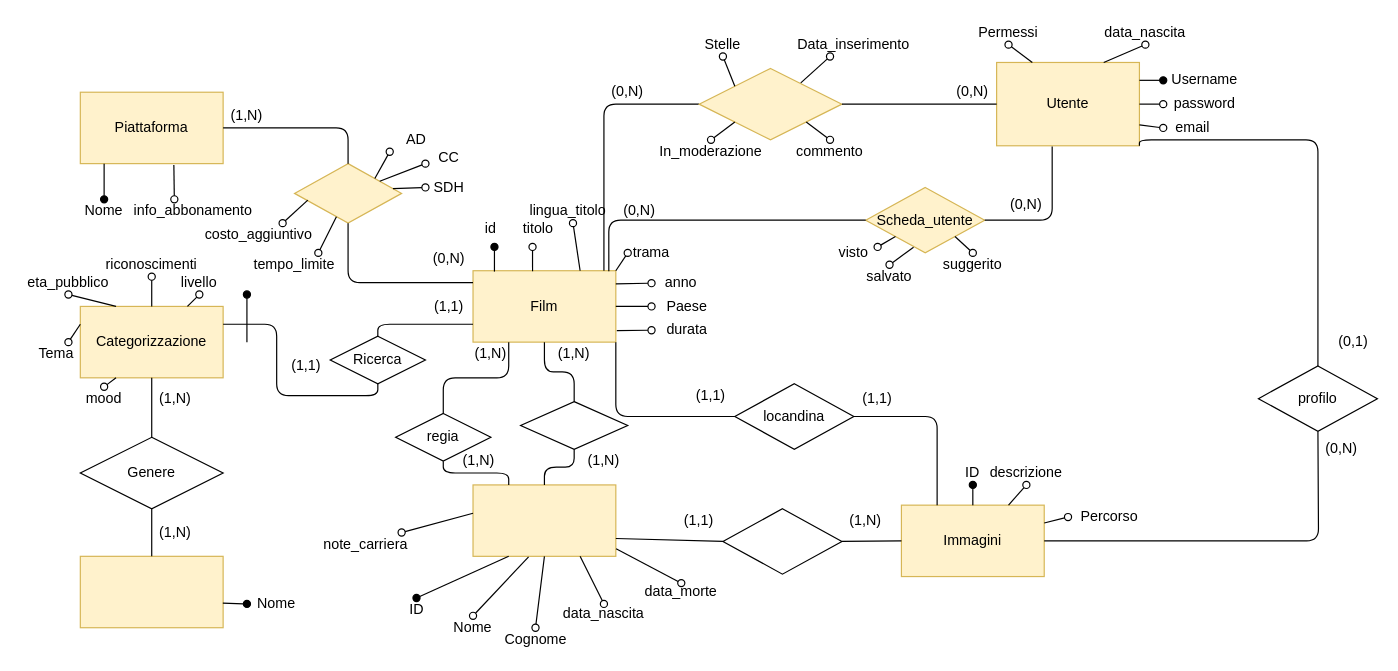
Image size: 1398x671. Some labels were removed from this diagram. The centre of each missing label's shape, as x and y in pixels:
Attore: (544,520)
cast_film: (573,424)
Disponibilità: (347,192)
foto: (782,541)
Lista_generi: (151,591)
Valutazione: (770,103)
